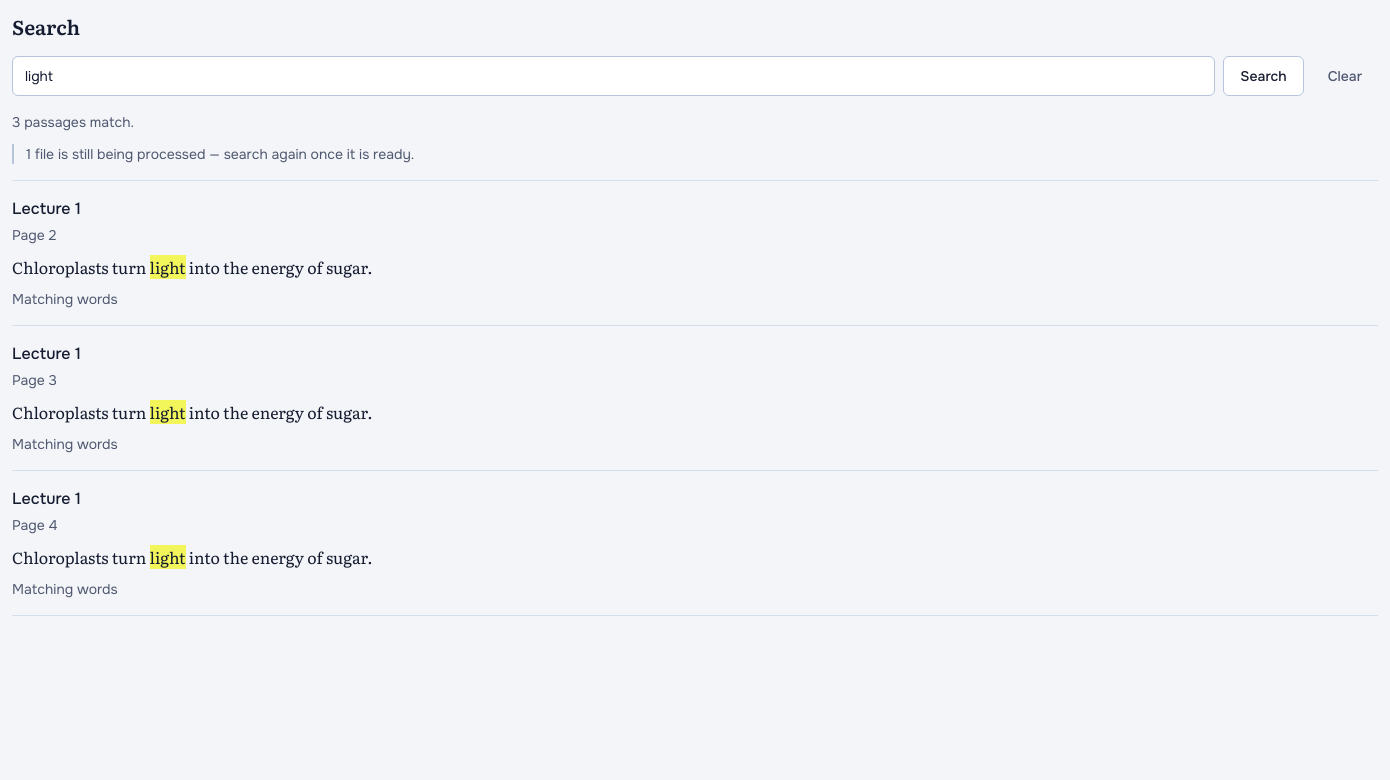
Scenario: SearchSection › leaves the status line empty when a search asked for again fails
Expected: the text "3 passages match." is shown, [12,113,134,131]
Step 1. Click the button "Search" → point(1263, 76), box [1223,56,1304,96]
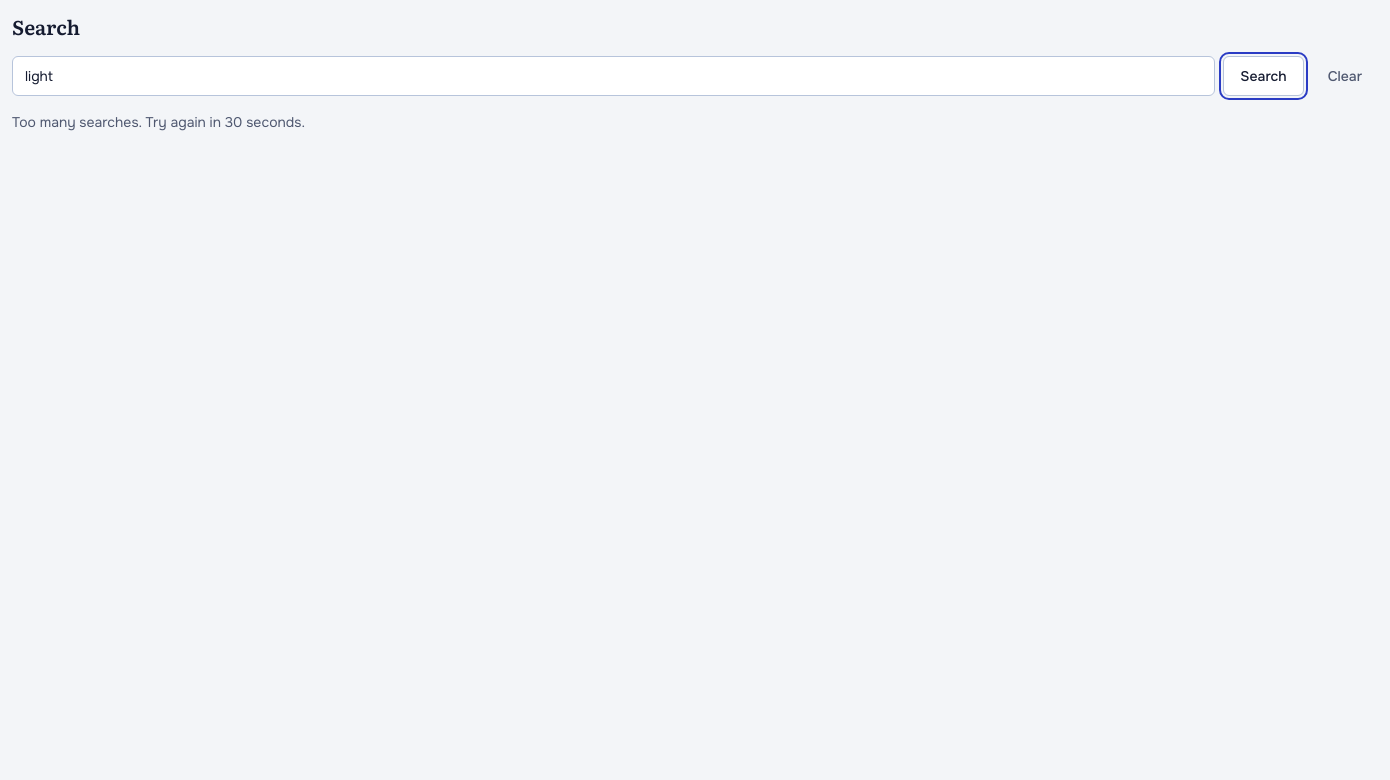
Expected: the message reads "Too many searches. Try again in 30 seconds.", [12,113,305,131]
Expected: the list is gone
